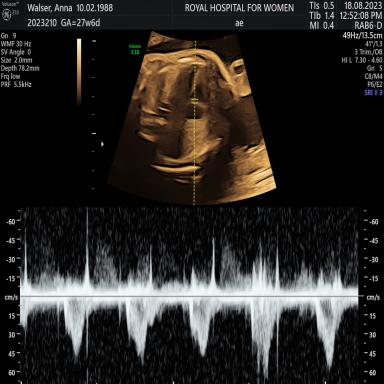Ultrasound-Waves: (29, 208, 355, 384)
